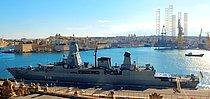MIL_Ship: (5, 41, 200, 88)
